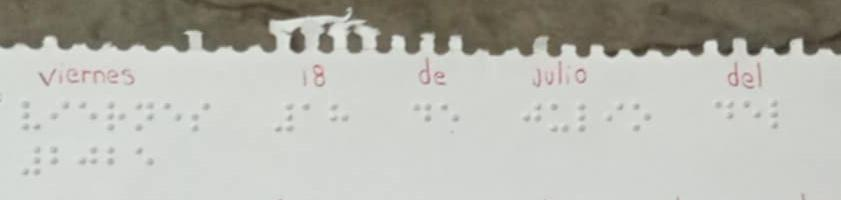d: (716, 89, 737, 126), (411, 97, 436, 128)
e: (435, 98, 466, 133), (75, 98, 104, 134), (162, 92, 184, 139), (742, 94, 763, 127)
i: (598, 98, 625, 134), (46, 98, 75, 128)
j: (520, 95, 547, 134)
l: (570, 96, 593, 140), (764, 94, 786, 138)
n: (132, 94, 160, 137)
o: (630, 98, 653, 135)
r: (102, 93, 130, 137)
s: (185, 93, 216, 139)
u: (545, 97, 573, 145)
v: (16, 97, 44, 136)
